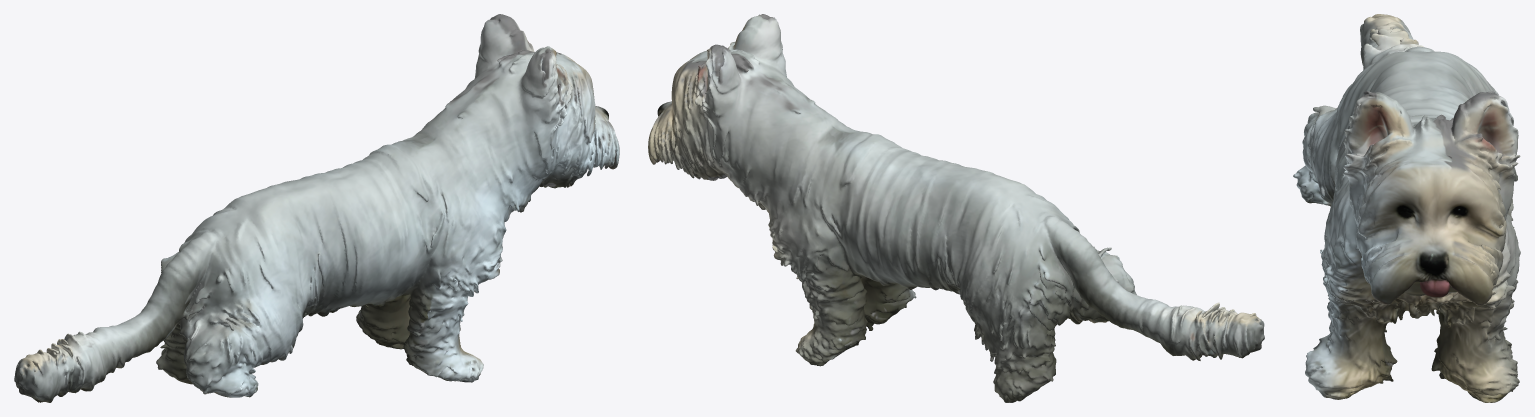
The model's file is 西高地白梗3d模型 2.glb.
3 views of the same model, side by side, from view 1: azimuth 30°, elevation 25°; view 2: azimuth 150°, elevation 25°; view 3: azimuth 270°, elevation 25° (orthographic). The views are drawn at different scales.
Parts seen in each view (by area): view 1: tripo_node_ab7feed3-53b8-4ee5-8880-2ab980e783fc; view 2: tripo_node_ab7feed3-53b8-4ee5-8880-2ab980e783fc; view 3: tripo_node_ab7feed3-53b8-4ee5-8880-2ab980e783fc.
Boxes of the visible parts, x1=… form: tripo_node_ab7feed3-53b8-4ee5-8880-2ab980e783fc: x1=14, y1=14, x2=619, y2=402; tripo_node_ab7feed3-53b8-4ee5-8880-2ab980e783fc: x1=648, y1=14, x2=1264, y2=402; tripo_node_ab7feed3-53b8-4ee5-8880-2ab980e783fc: x1=1293, y1=14, x2=1520, y2=402.
Size of the model in its own units: 1 by 0.4711 by 0.2651.
Materials: 1 (1 with a texture image).
